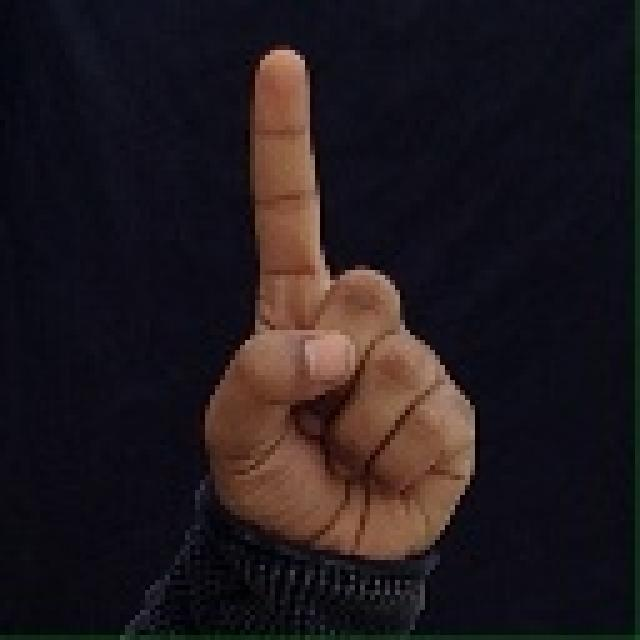Numeric-1: (206, 50, 482, 572)
